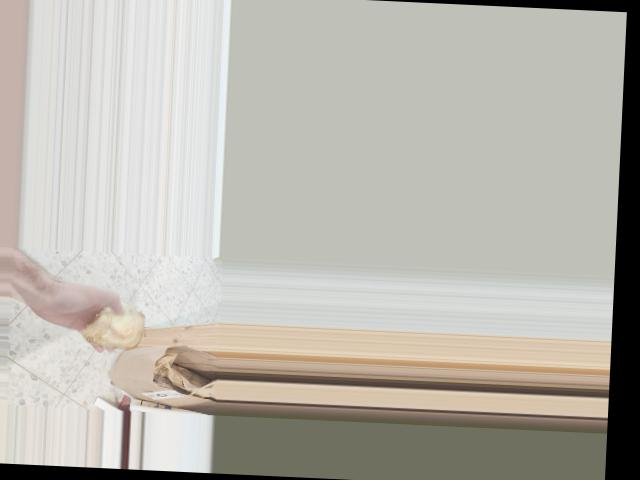onion: (78, 298, 149, 351)
